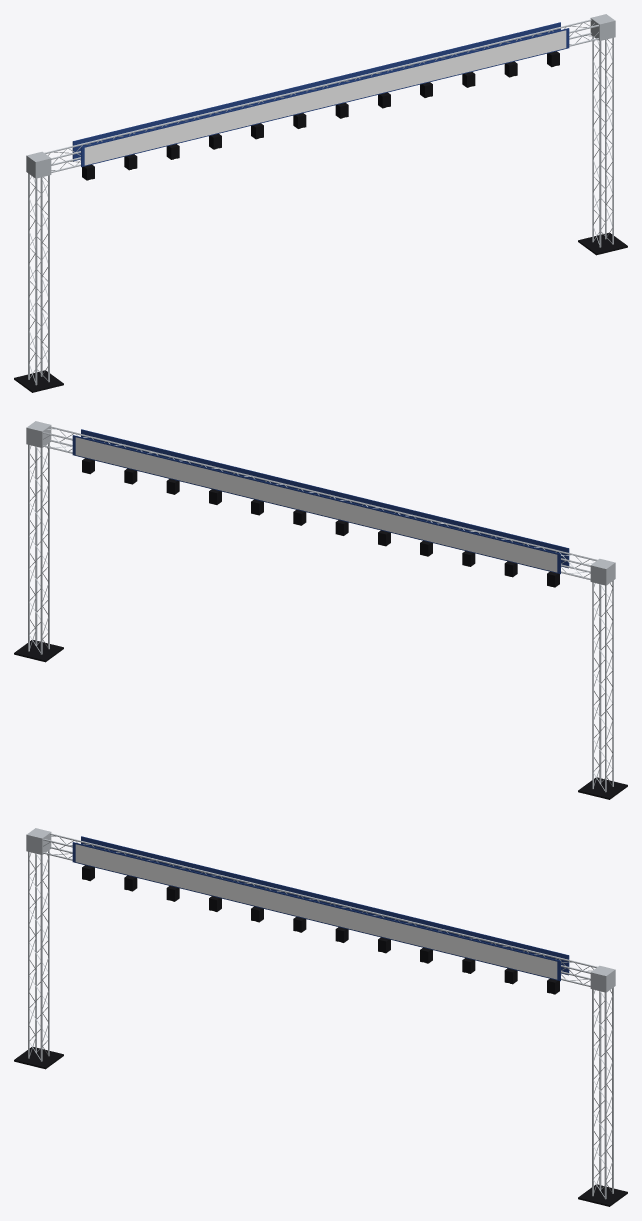
The model's file is truss_arch.glb.
The picture shows the model from 3 angles, top to bottom: view 1: azimuth 30°, elevation 25°; view 2: azimuth 150°, elevation 25°; view 3: azimuth 330°, elevation 25°; orthographic projection.
Visible parts, largest first — view 1: Truss, Words; view 2: Truss, Words; view 3: Truss, Words.
Part boxes in pixels (x1,y1,x2,y2): Truss: (14, 14, 627, 392); Words: (84, 30, 566, 165); Truss: (14, 421, 627, 799); Words: (75, 437, 557, 572); Truss: (14, 828, 627, 1206); Words: (75, 844, 557, 979).
Size of the model in its own units: 18.8 by 6.9 by 1.
